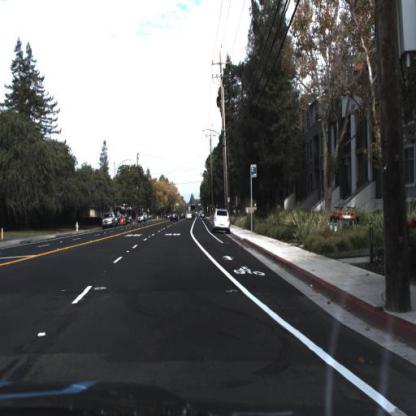car: (214, 206, 232, 235), (213, 209, 233, 232), (101, 209, 116, 230), (115, 211, 123, 229), (126, 213, 134, 229), (136, 216, 146, 228)
